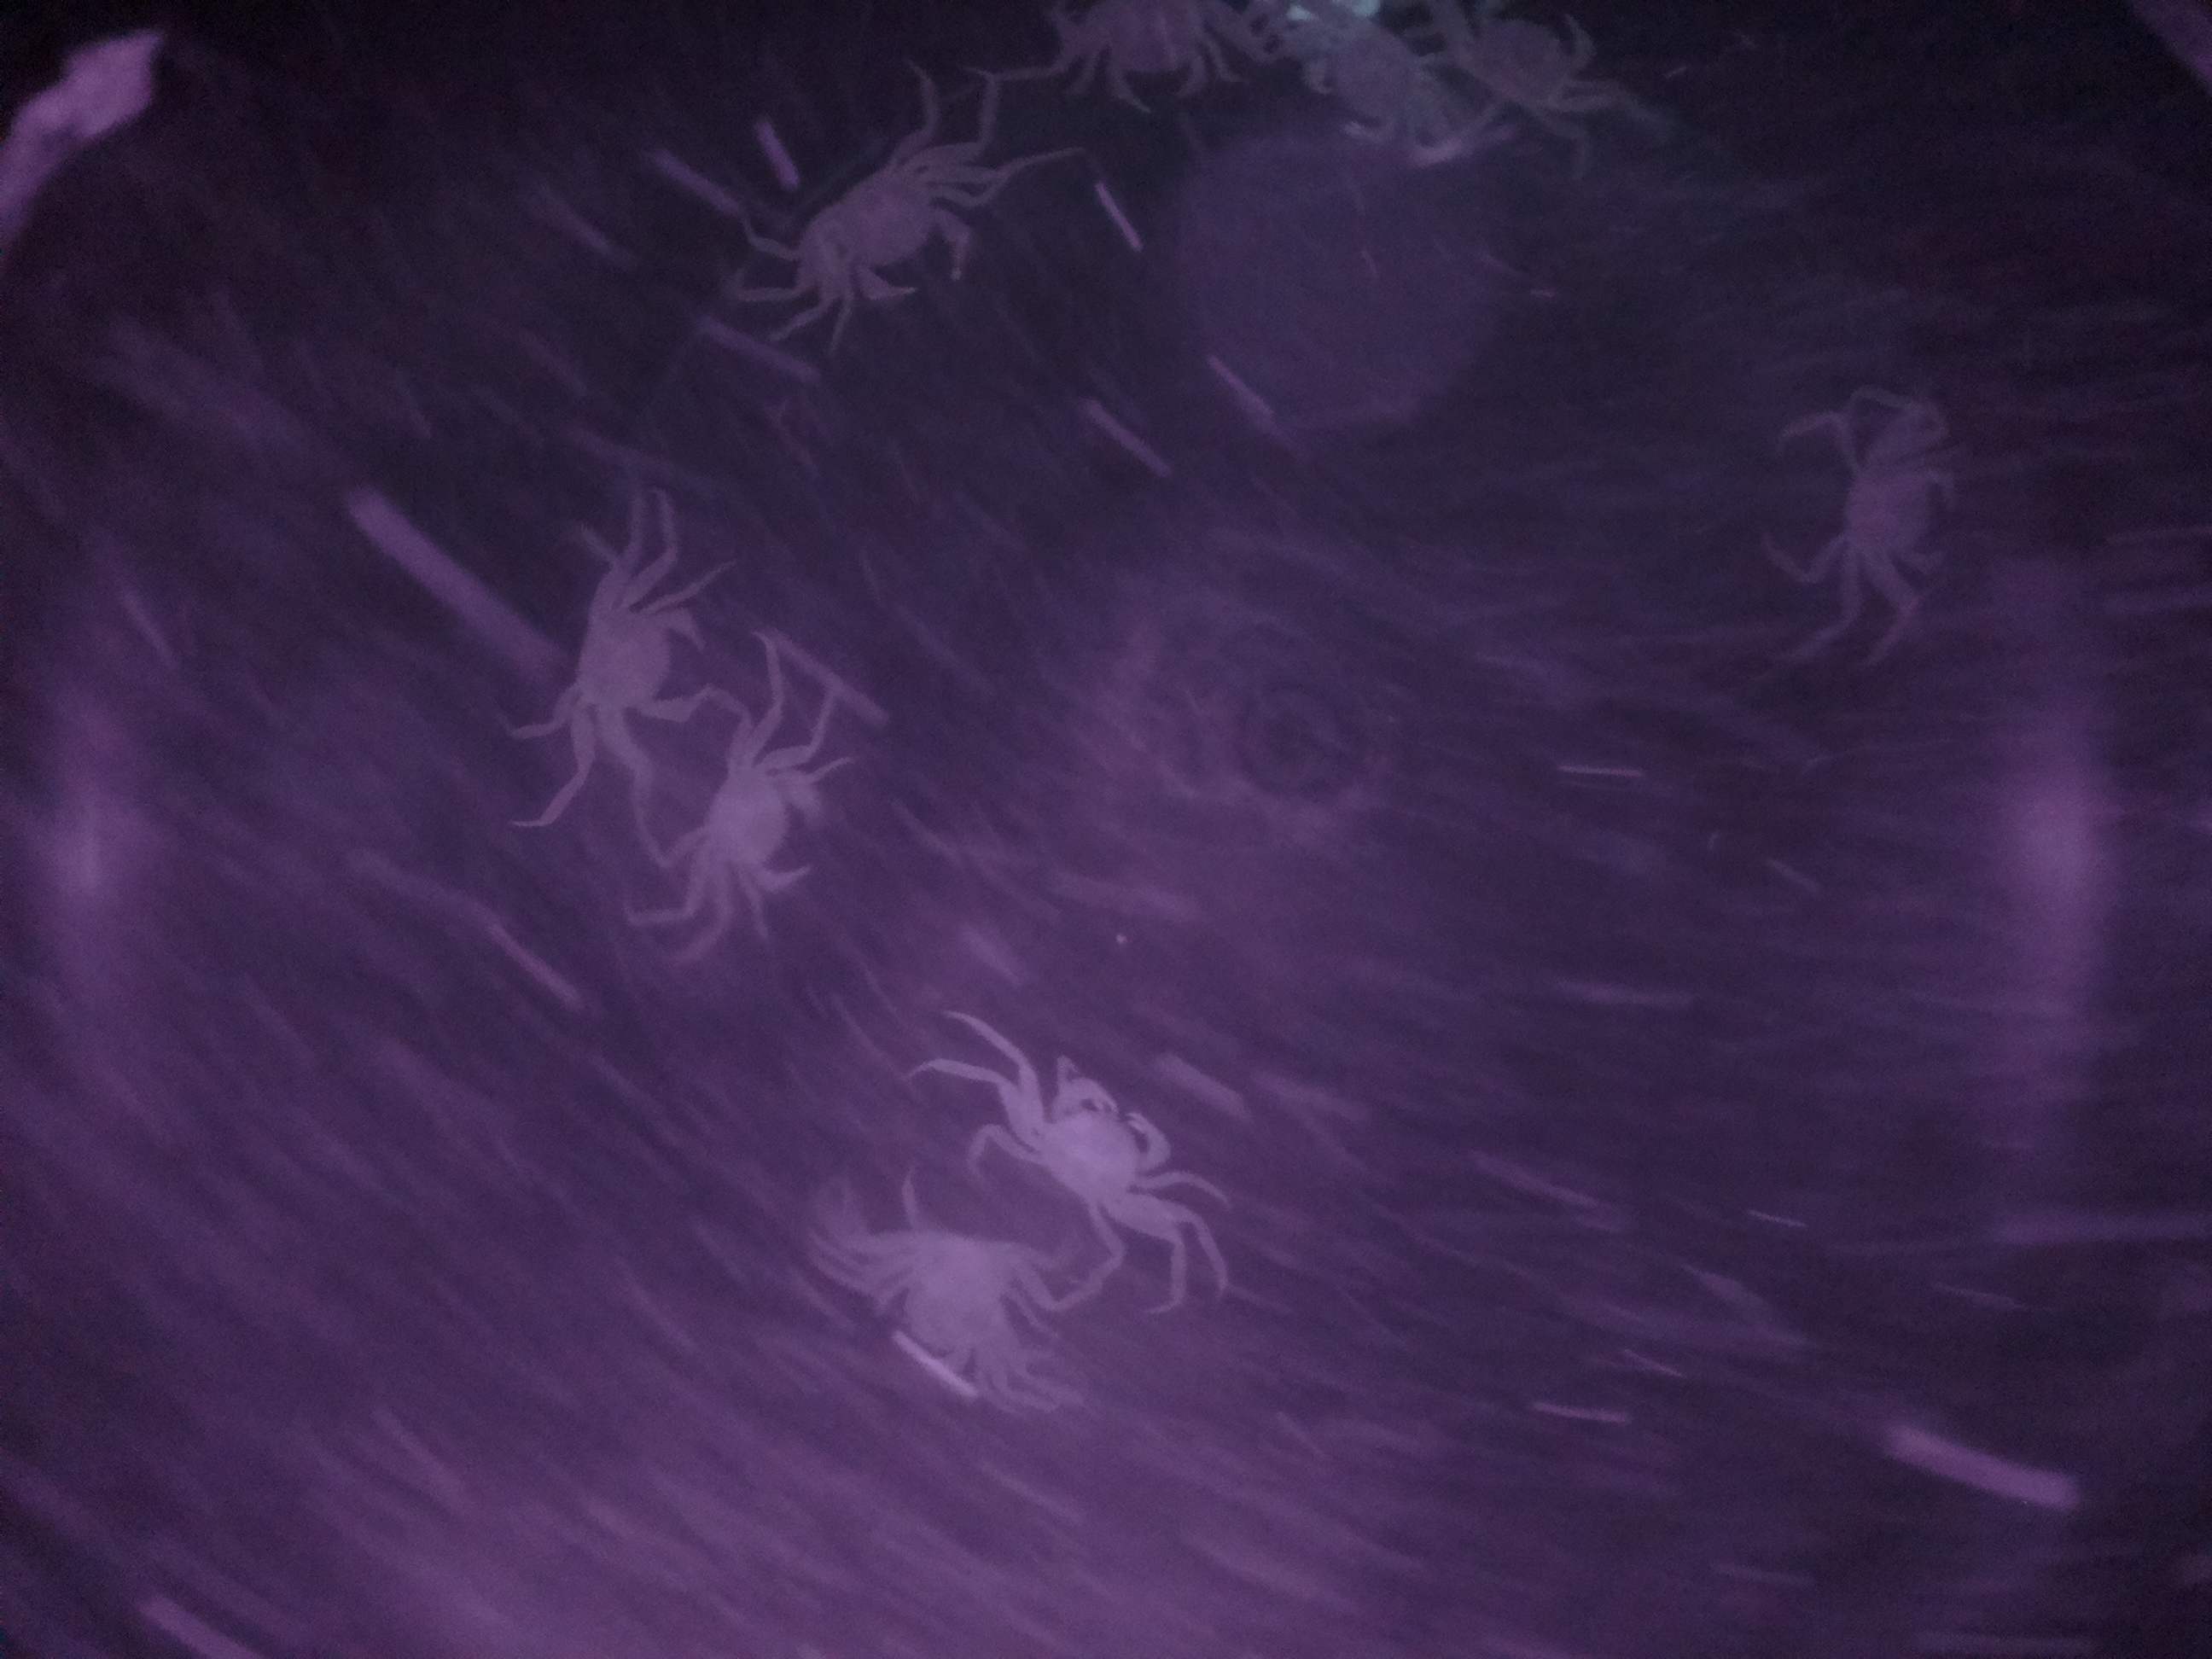Crab: (773, 132, 1003, 357), (991, 1018, 1200, 1251), (1787, 396, 1977, 643), (676, 692, 843, 920), (536, 549, 712, 746)
